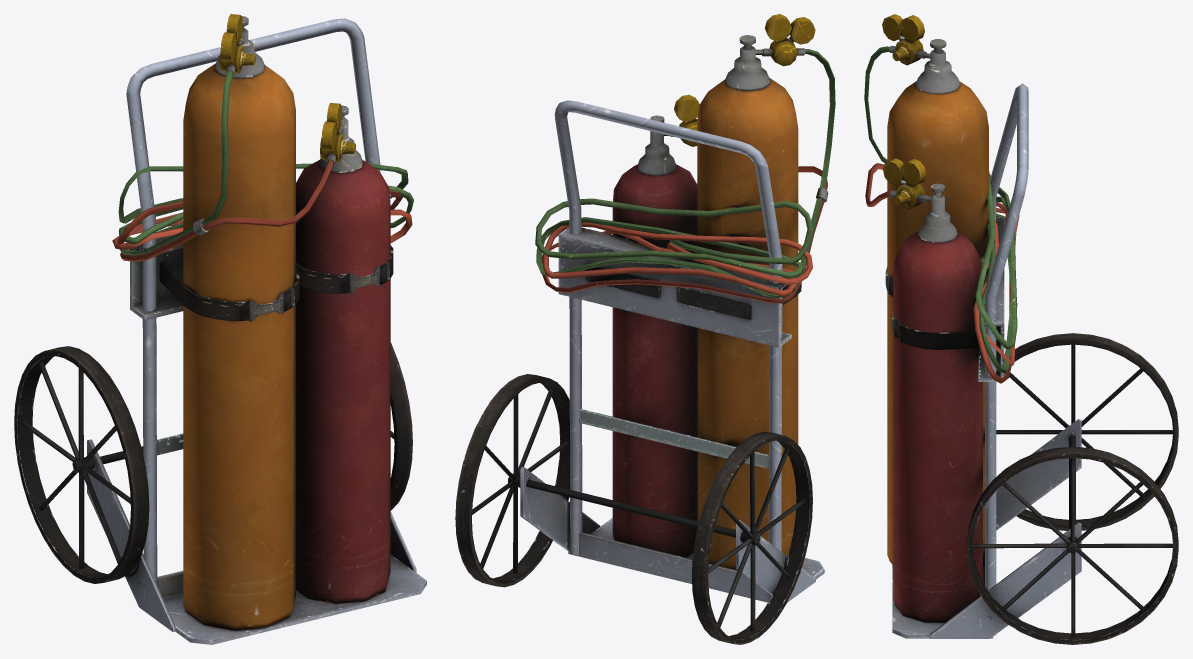
File: Hangar_Gas_Cylinders.fbx
The picture shows the model from 3 angles, left to right: view 1: azimuth 30°, elevation 25°; view 2: azimuth 150°, elevation 25°; view 3: azimuth 270°, elevation 25°; orthographic projection. The views are drawn at different scales.
Visible parts, largest first — view 1: Hangar_Gas_Cylinders; view 2: Hangar_Gas_Cylinders; view 3: Hangar_Gas_Cylinders.
Boxes of the visible parts, x1=… form: Hangar_Gas_Cylinders: x1=14, y1=14, x2=426, y2=644; Hangar_Gas_Cylinders: x1=455, y1=14, x2=835, y2=644; Hangar_Gas_Cylinders: x1=864, y1=14, x2=1178, y2=644.
Size of the model in its own units: 72.86 by 142 by 74.94.
Materials: 1 (1 with a texture image).
